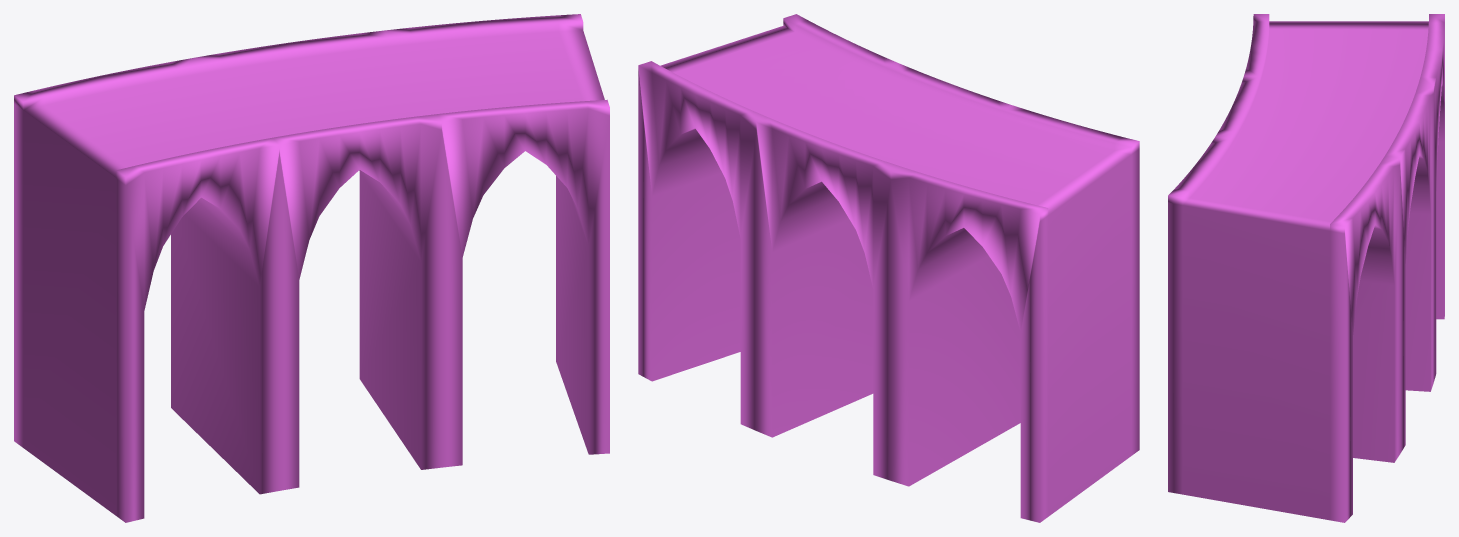
Rendered from RD_Arch_x3_Tall_22.5.fbx.
The picture shows the model from 3 angles, left to right: view 1: azimuth 30°, elevation 25°; view 2: azimuth 150°, elevation 25°; view 3: azimuth 270°, elevation 25°; orthographic projection. The views are drawn at different scales.
Parts seen in each view (by area): view 1: RD_Arch_x3_Tall; view 2: RD_Arch_x3_Tall; view 3: RD_Arch_x3_Tall.
Part boxes in pixels (x1,y1,x2,y2): RD_Arch_x3_Tall: (14,14,609,522); RD_Arch_x3_Tall: (638,14,1139,522); RD_Arch_x3_Tall: (1168,14,1444,522).
Bounding box in the file's own units: 1261 × 820 × 694.
